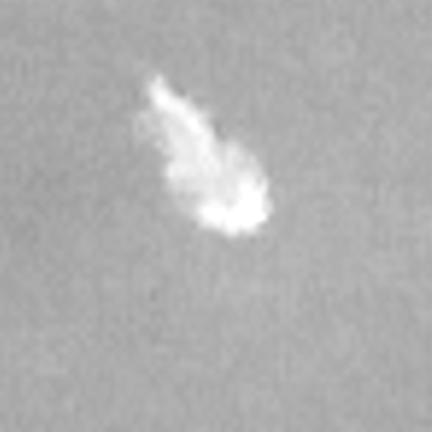flukeprints: (138, 76, 271, 235)
